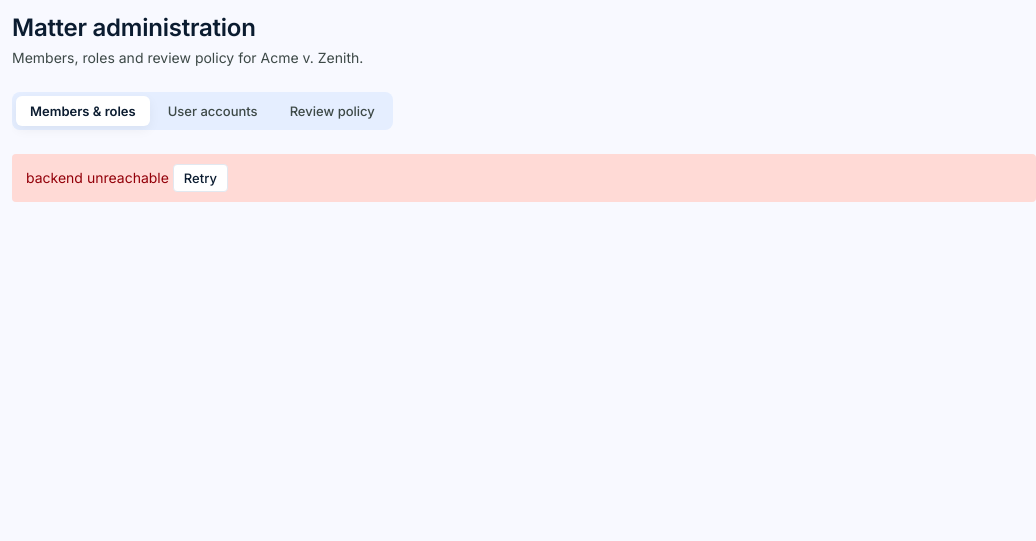
it: AdminPage › shows an error banner with retry when the roster fails to load
This screenshot has width=1036, height=541.
Expected: the text "backend unreachable Retry" is shown, [12,154,1035,202]
Step 1. Click the button "Retry" → [200, 178], box [173,164,228,192]
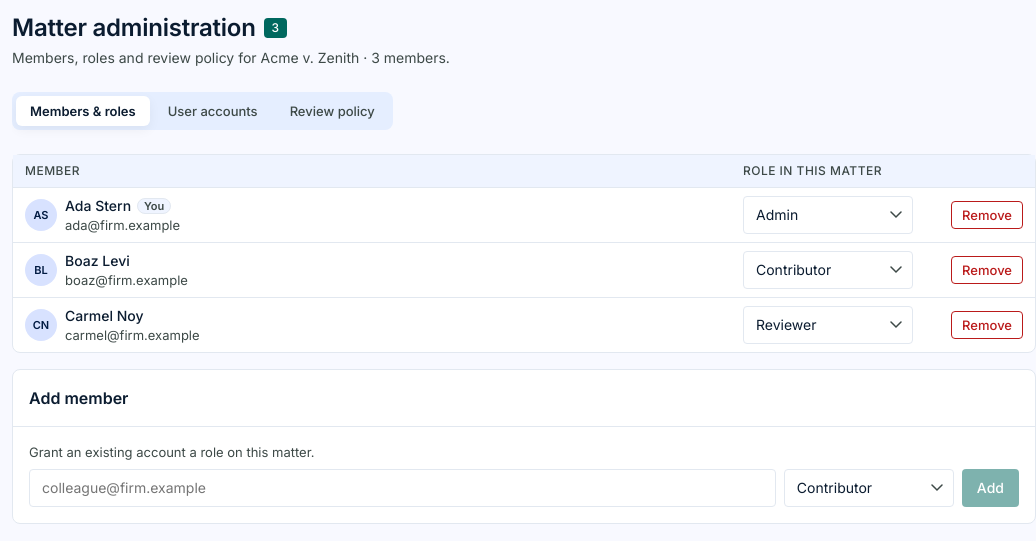
Result: the text "Boaz Levi" is shown at [65,252,130,269]
